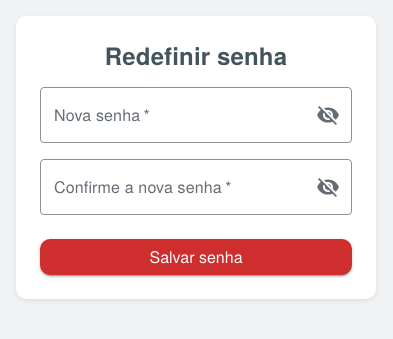
it: ResetPassword › should hold the new password to the signup rules
Step 1. Type "curta" into the password field labelled "Nova senha *" → coordinates (170, 115), box [40,87,300,143]
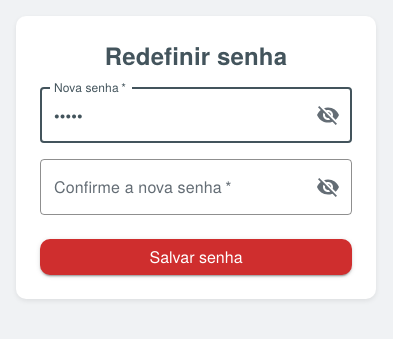
Step 2. Type "curta" into the password field labelled "Confirme a nova senha *" → coordinates (170, 187), box [40,159,300,215]
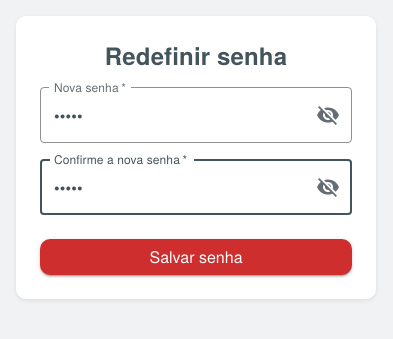
Step 3. Click the button "Salvar senha" → coordinates (196, 257), box [40,239,352,275]
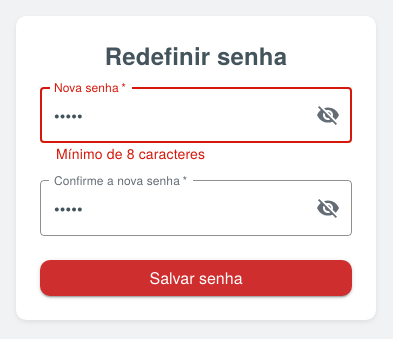
Check: the text "Mínimo de 8 caracteres" is shown, box [56,143,205,163]
